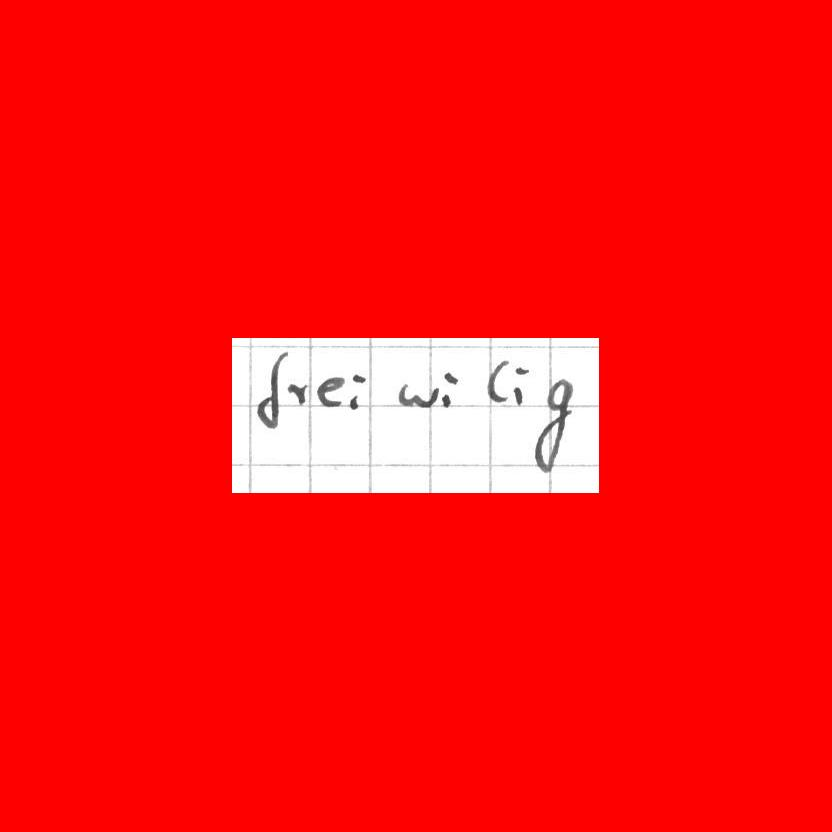Char: (529, 371, 572, 475), (255, 347, 288, 428), (485, 358, 511, 406), (397, 380, 438, 409), (317, 374, 344, 409), (439, 369, 459, 411), (510, 366, 530, 406), (348, 372, 366, 410), (287, 379, 311, 406)
